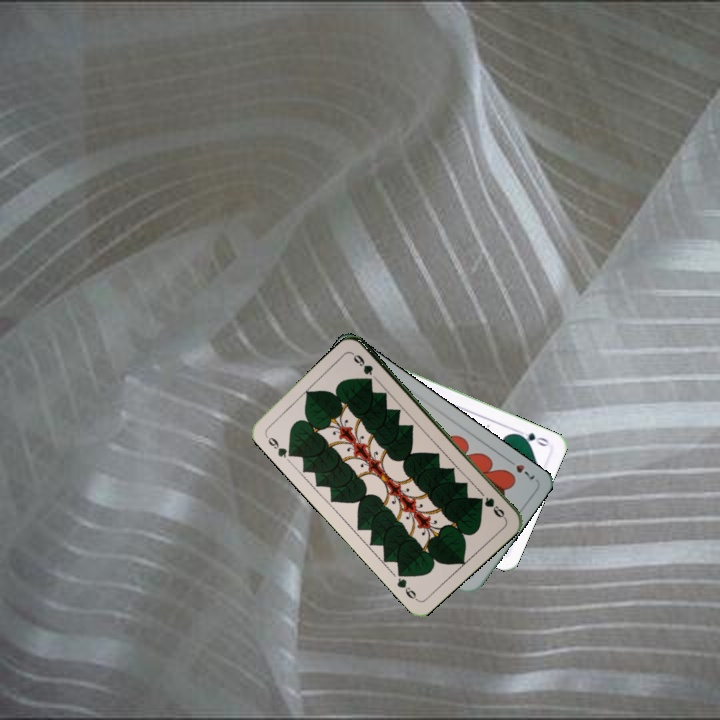G9: (261, 430, 297, 461), (480, 493, 509, 522)
GO: (512, 426, 551, 449)
H7: (502, 455, 538, 482)
